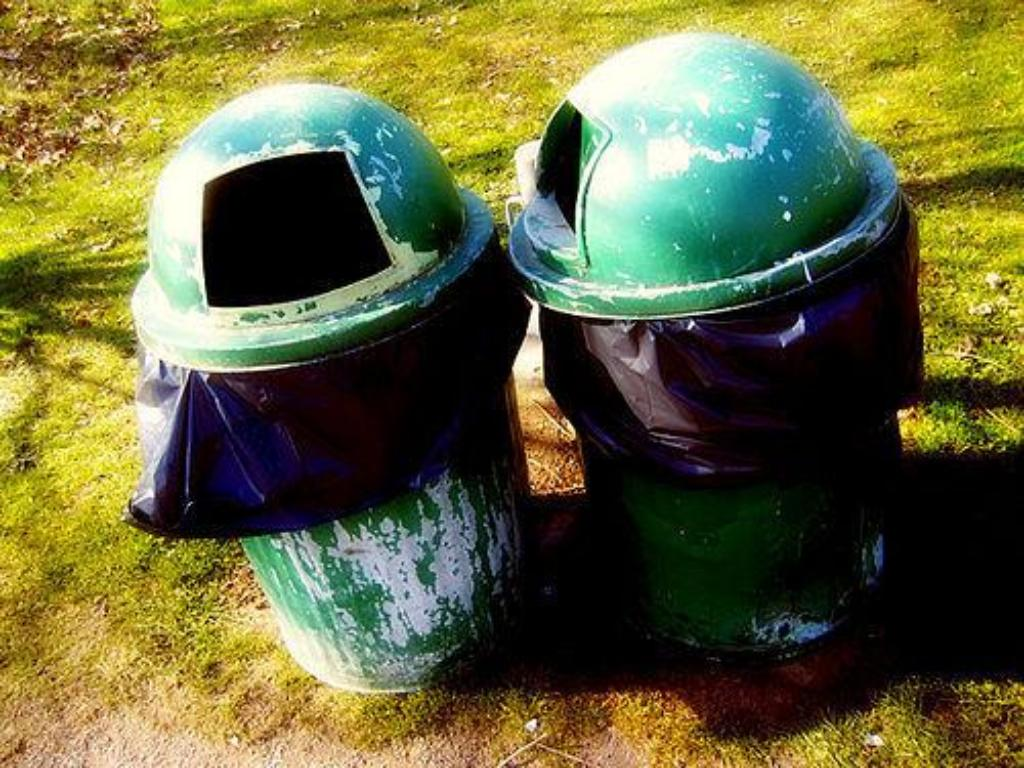dustbin: (512, 54, 933, 701), (139, 102, 552, 716)
